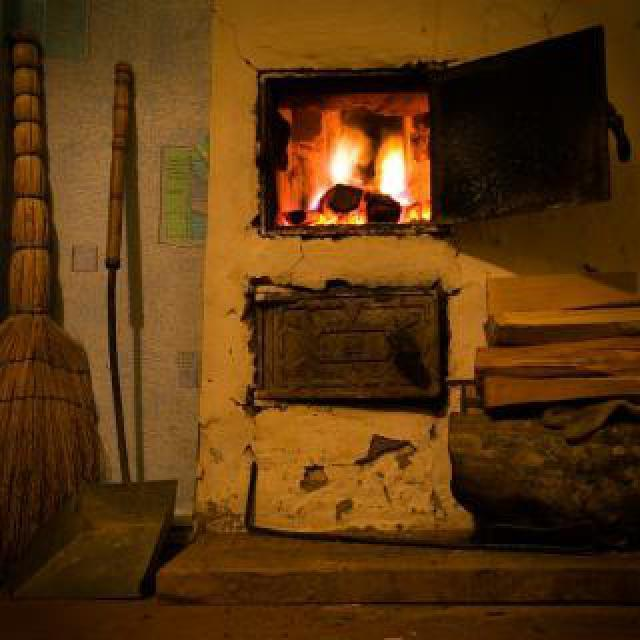Fire: (288, 110, 420, 242)
